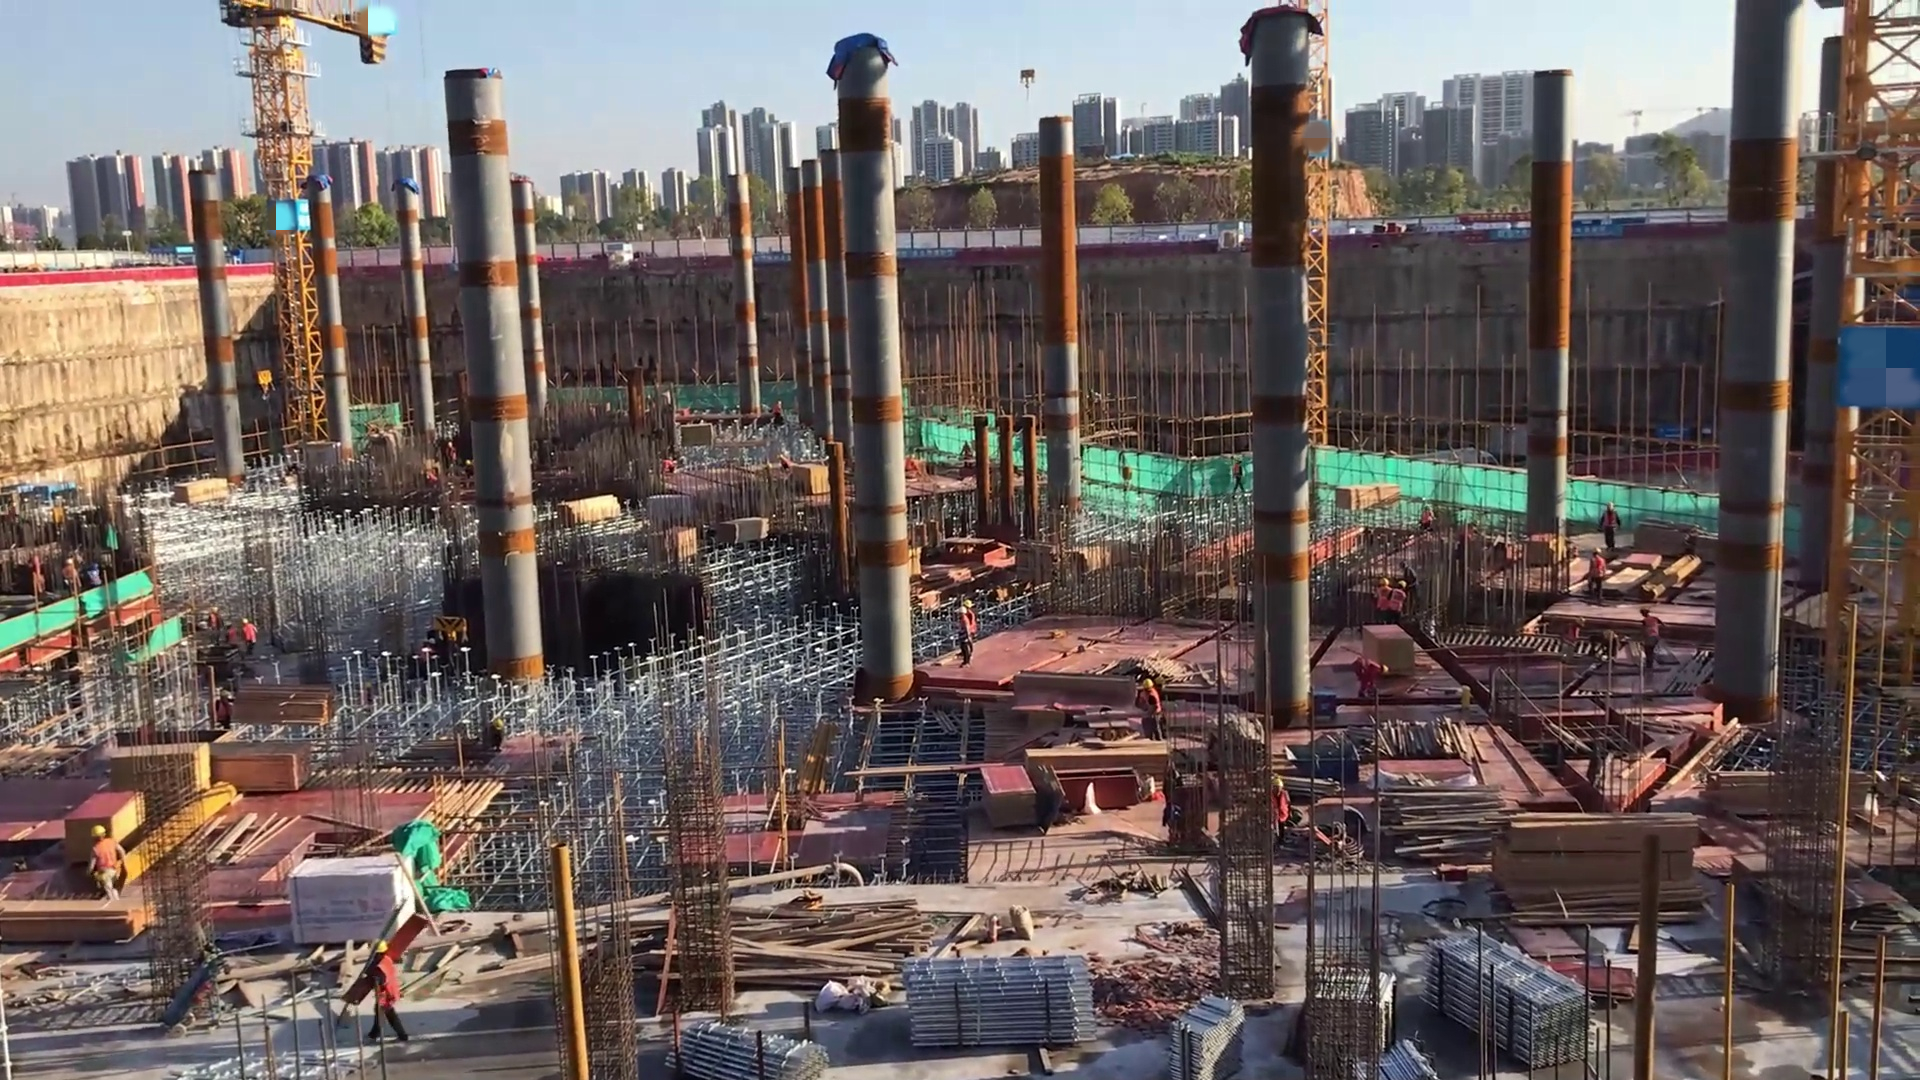helmet: (366, 935, 392, 954), (89, 822, 108, 841), (1270, 776, 1286, 791), (1379, 659, 1391, 677), (1142, 677, 1156, 690), (1606, 499, 1617, 513), (1398, 579, 1409, 589), (957, 606, 968, 616), (963, 598, 973, 606), (1380, 578, 1390, 587), (221, 689, 230, 700), (242, 615, 251, 626), (1592, 544, 1601, 554), (211, 604, 218, 614)
person: (344, 928, 415, 1050), (77, 822, 132, 920), (1263, 775, 1300, 862), (1133, 670, 1169, 742), (1349, 654, 1391, 714), (1636, 604, 1664, 683), (1596, 497, 1624, 552), (239, 616, 262, 675), (954, 605, 974, 668), (1587, 543, 1604, 614), (211, 687, 237, 730), (1392, 580, 1413, 625), (962, 594, 978, 650), (1418, 501, 1436, 544), (61, 559, 82, 594), (1374, 579, 1390, 624), (1232, 457, 1247, 497), (224, 620, 240, 655), (208, 601, 220, 648), (772, 395, 786, 432), (86, 560, 101, 592), (445, 438, 458, 470)
vest: (370, 957, 402, 1010), (88, 842, 123, 877), (1267, 790, 1293, 831), (1141, 688, 1162, 718), (1588, 555, 1605, 588), (1642, 617, 1661, 644), (1358, 658, 1381, 680), (1378, 585, 1392, 615), (1392, 589, 1406, 617), (1603, 511, 1619, 529)
